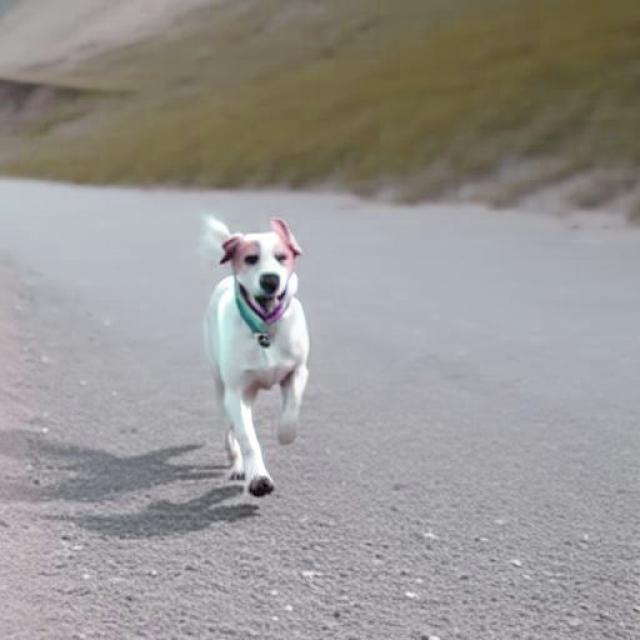Dog: (198, 213, 310, 498)
